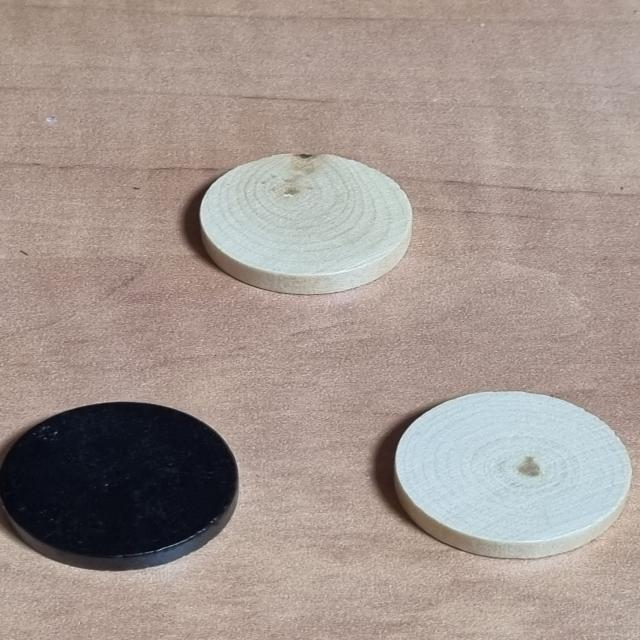black: (0, 374, 277, 578)
white: (336, 352, 635, 580), (158, 135, 461, 323)
